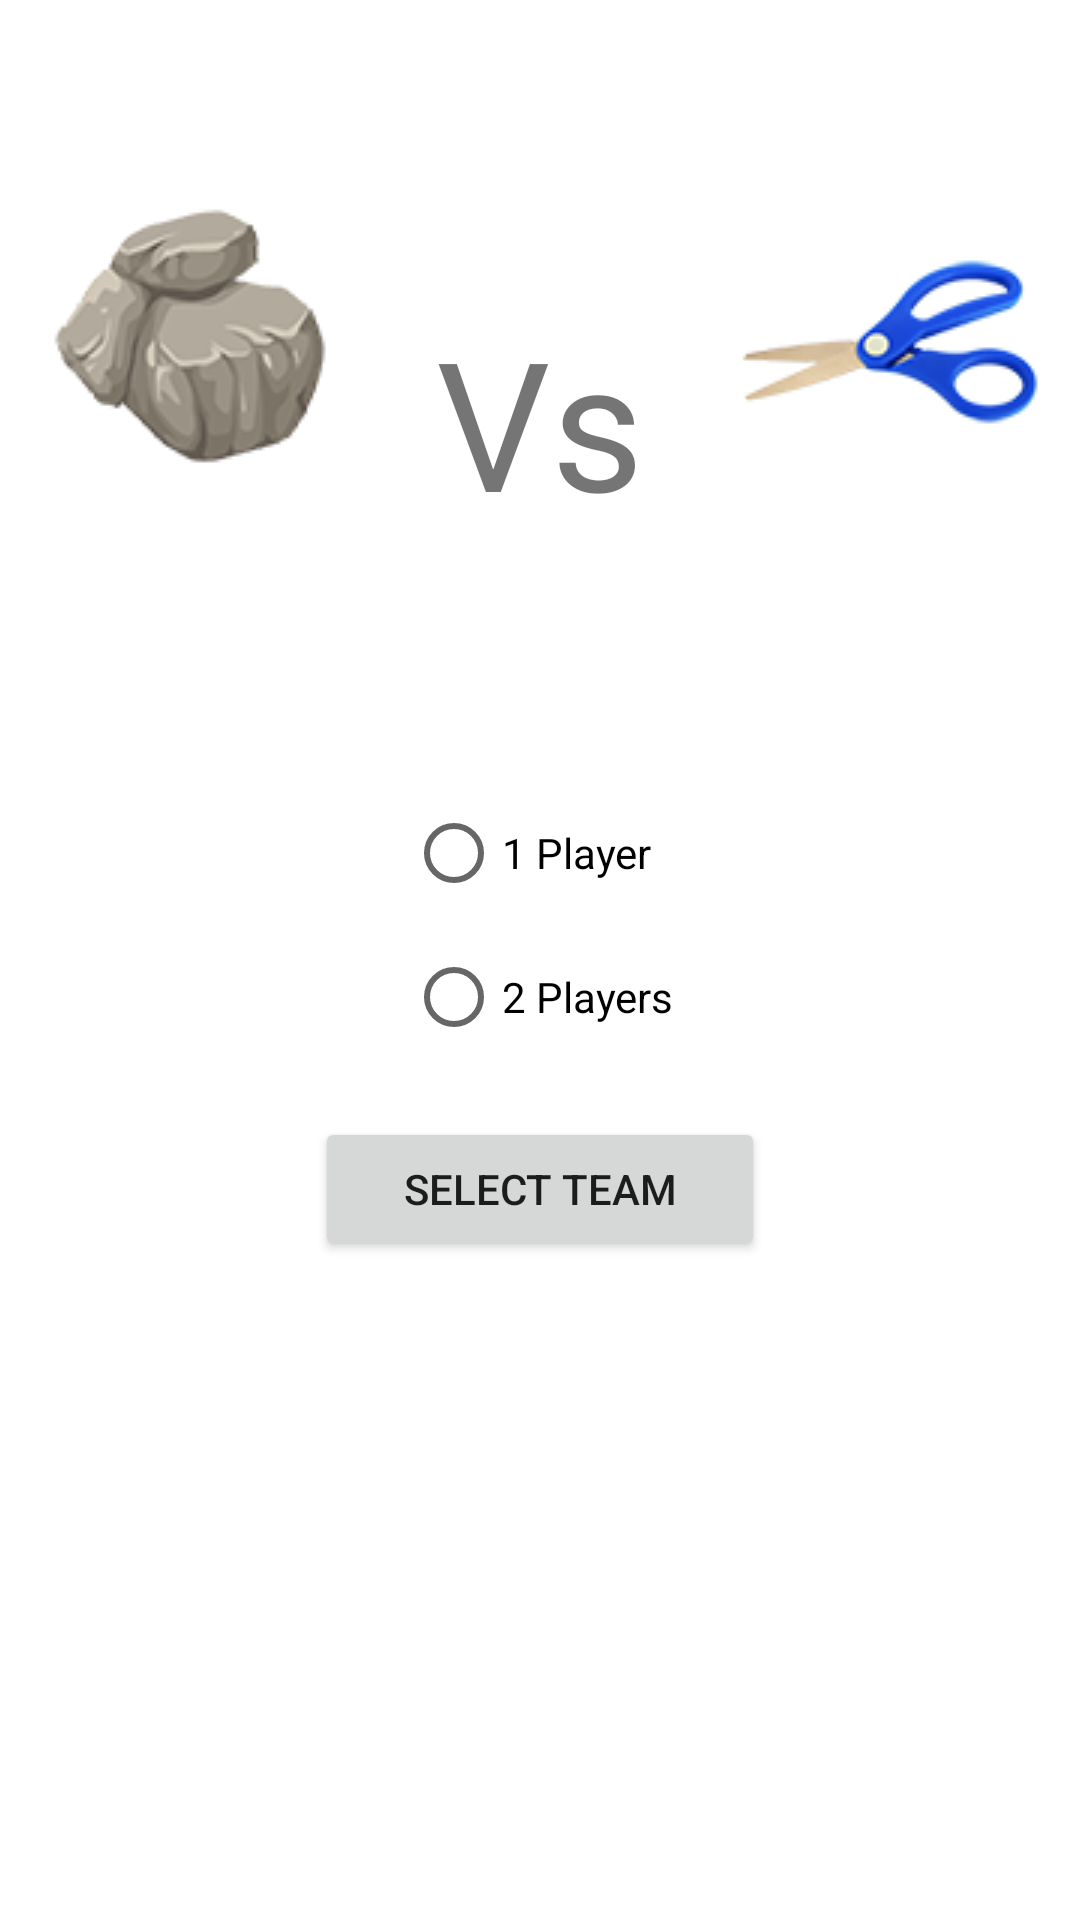

Screen size 1080px x 1920px. Icon name, then its center in pixels as [x,y]:
rock: [190,336]
scissors: [890,342]
